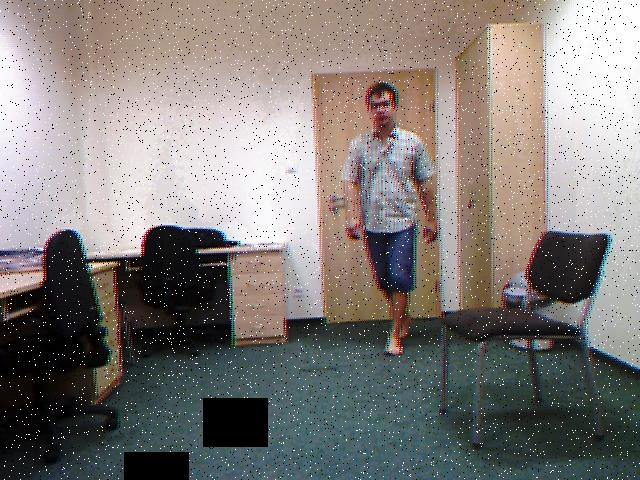walking: (344, 85, 432, 354)
